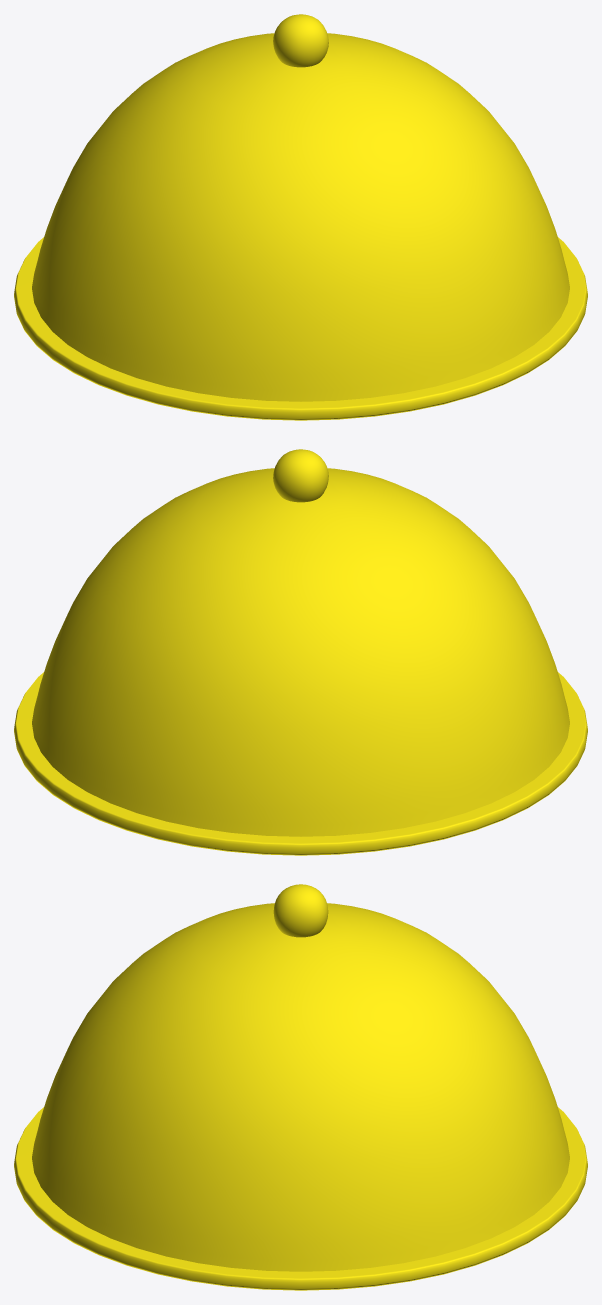
The model's file is Store_20_Big_Serving_tray_1.glb.
The picture shows the model from 3 angles, top to bottom: view 1: azimuth 30°, elevation 25°; view 2: azimuth 150°, elevation 25°; view 3: azimuth 270°, elevation 25°; orthographic projection.
Parts seen in each view (by area): view 1: Store_20_Big_Serving_tray_1; view 2: Store_20_Big_Serving_tray_1; view 3: Store_20_Big_Serving_tray_1.
Boxes of the visible parts, left/top/right/bottom form: Store_20_Big_Serving_tray_1: left=14, top=14, right=587, bottom=420; Store_20_Big_Serving_tray_1: left=14, top=449, right=587, bottom=855; Store_20_Big_Serving_tray_1: left=14, top=884, right=587, bottom=1290.
Size of the model in its own units: 5.82 by 3.47 by 5.82.
1 material, 1 textured.
